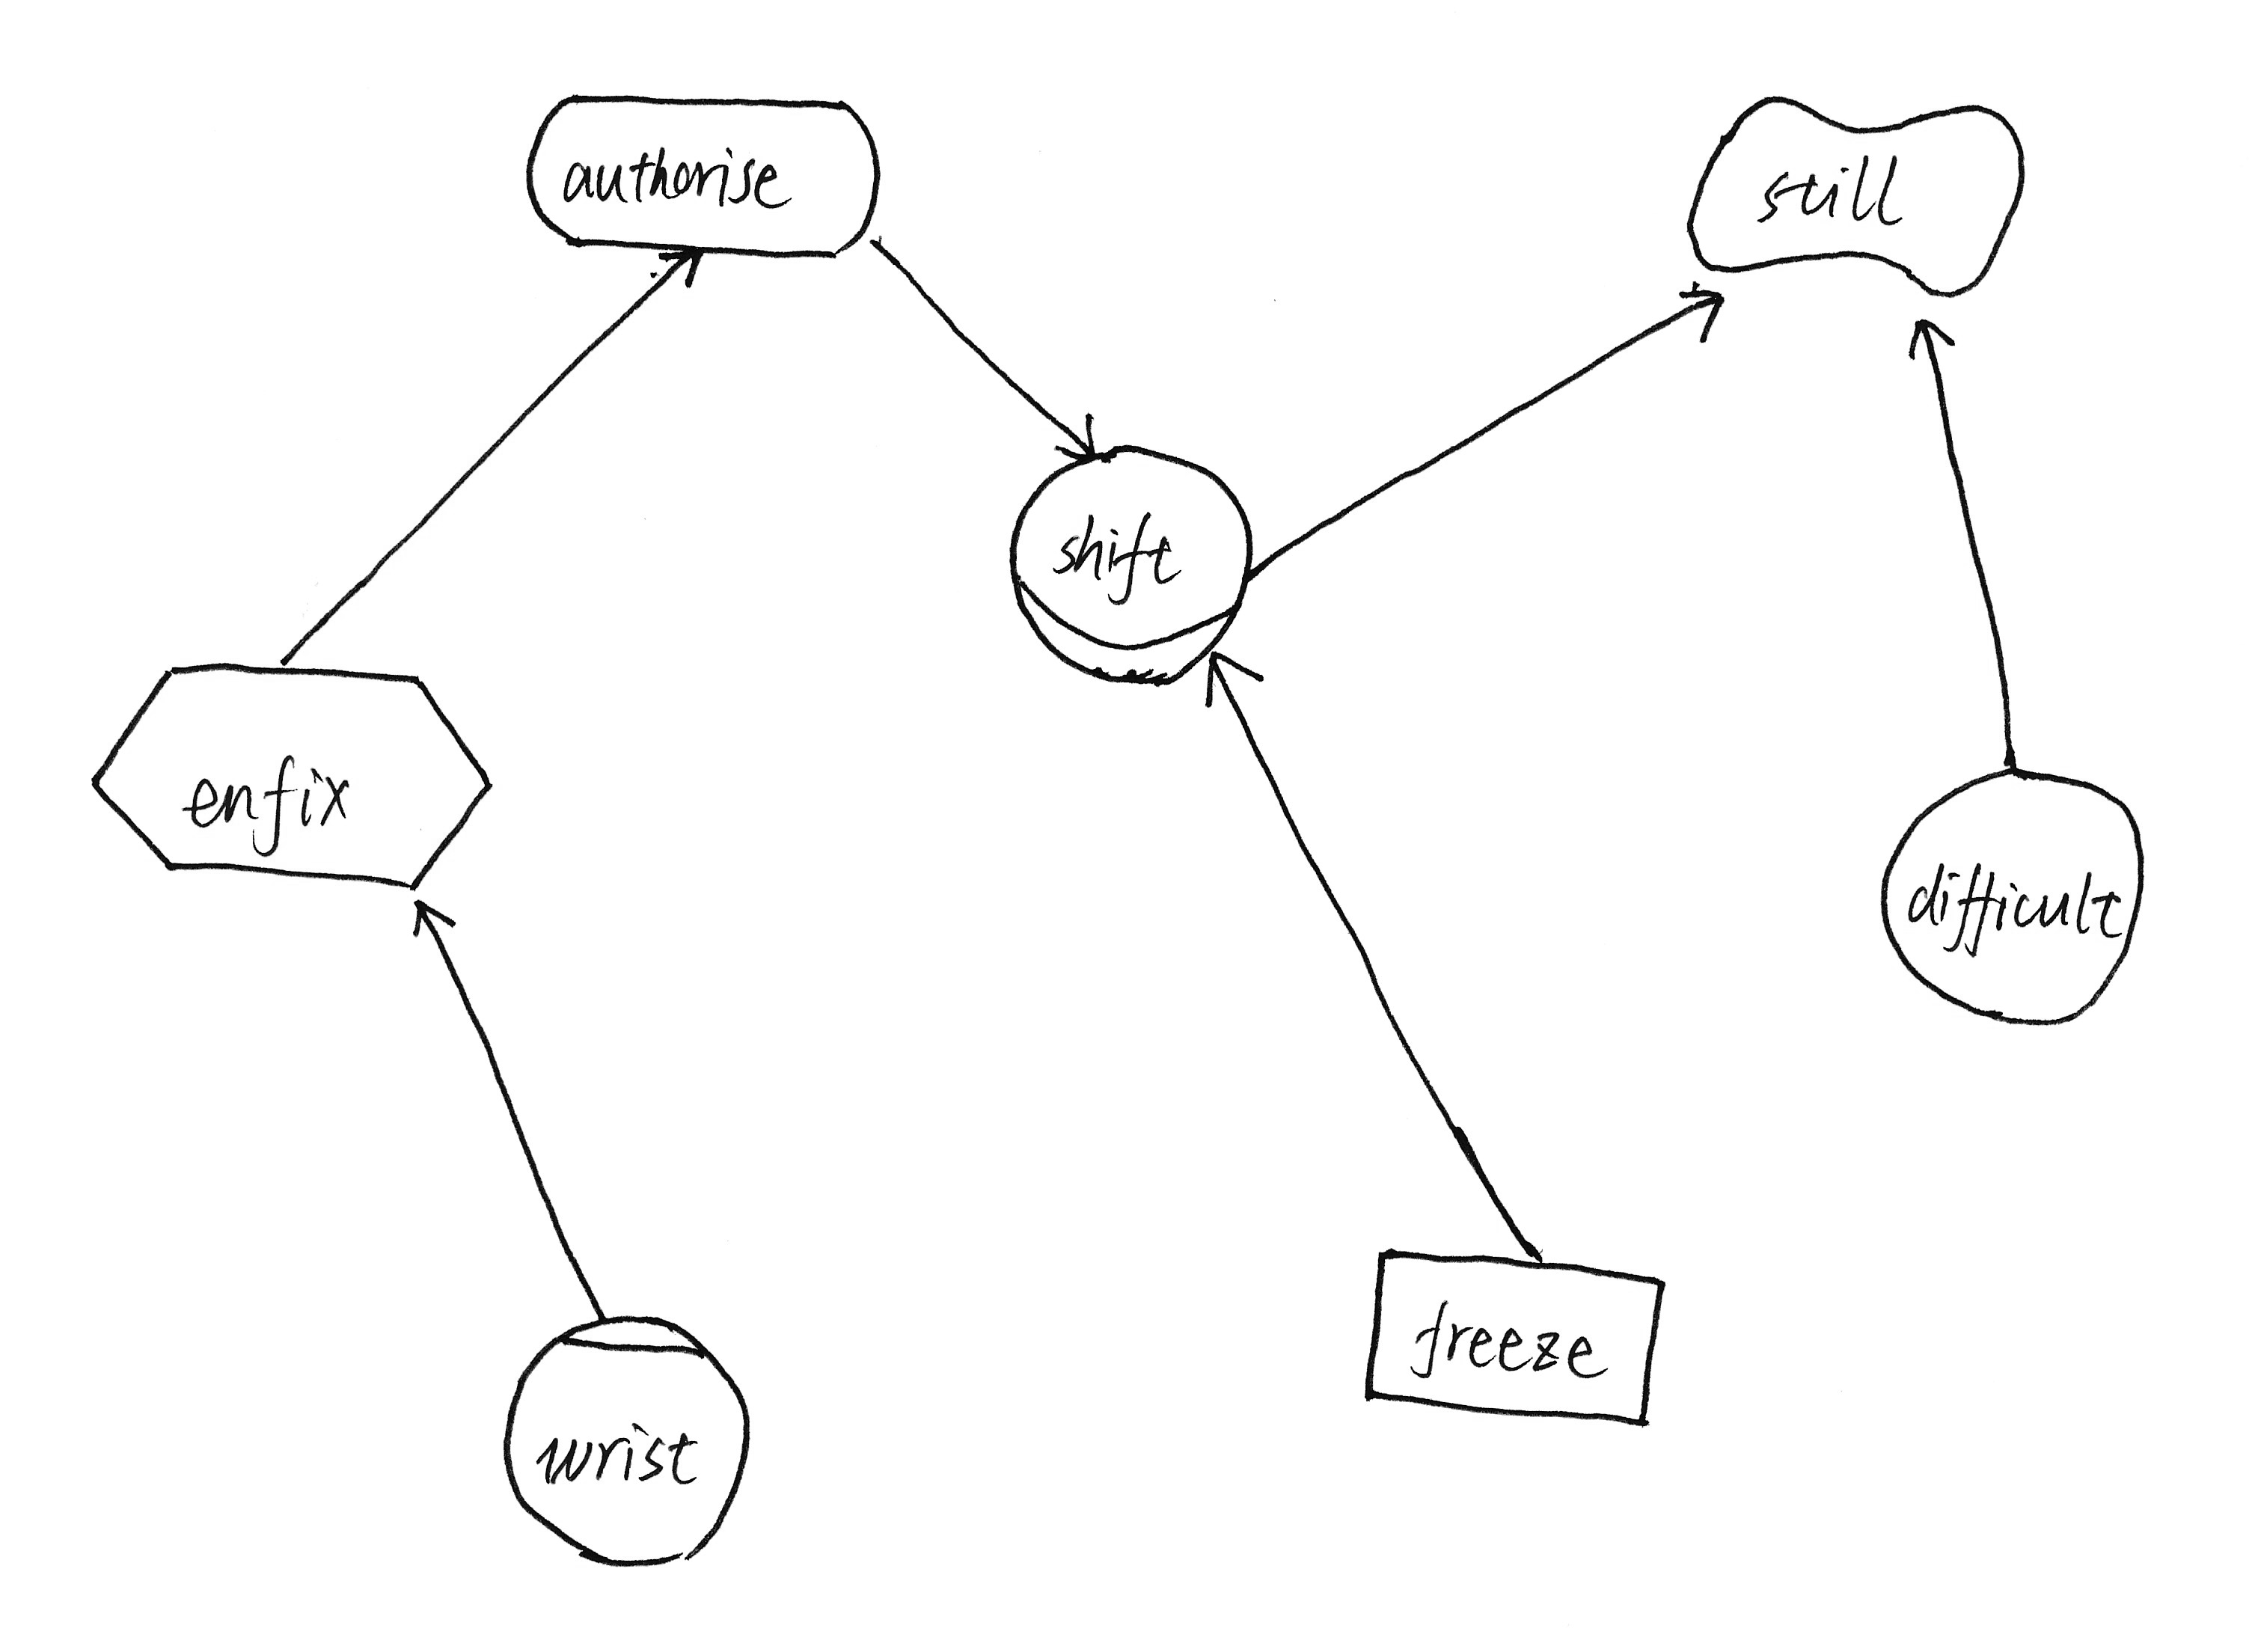actor: (1865, 756, 2158, 1040)
agent: (486, 1294, 768, 1578)
arrow: (1196, 645, 1278, 728), (1671, 272, 1743, 358), (403, 893, 486, 954), (1895, 302, 1965, 367), (1033, 405, 1104, 466), (647, 246, 710, 310)
goal: (514, 79, 894, 270)
quality: (1674, 82, 2046, 310)
resource: (1343, 1226, 1678, 1436)
role: (1001, 435, 1262, 698)
task: (74, 649, 505, 903)
